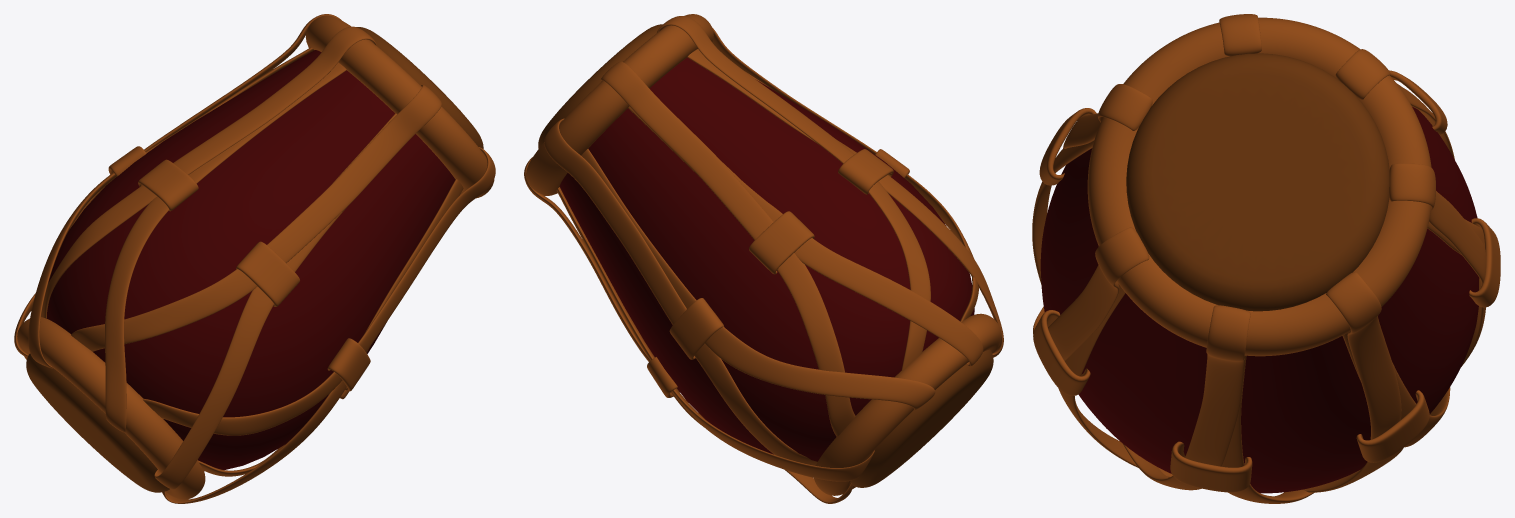
Rendered from Gendang.obj.
3 renders of one model, left to right at view 1: azimuth 30°, elevation 25°; view 2: azimuth 150°, elevation 25°; view 3: azimuth 270°, elevation 25°, orthographic. The views are drawn at different scales.
Parts seen in each view (by area): view 1: Udel, Tali_Rarawat, Wengku, Wengku.001, Ali-ali, Wangkis.001, Wangkis; view 2: Udel, Tali_Rarawat, Wengku, Wengku.001, Ali-ali, Wangkis.001, Wangkis; view 3: Wangkis, Udel, Tali_Rarawat, Wengku, Ali-ali.
Boxes of the visible parts, bbox=[...] form: Udel: bbox=[46, 50, 455, 471]; Tali_Rarawat: bbox=[14, 14, 495, 503]; Wengku: bbox=[305, 15, 494, 198]; Wengku.001: bbox=[17, 317, 205, 499]; Ali-ali: bbox=[108, 146, 370, 399]; Wangkis.001: bbox=[26, 353, 169, 492]; Wangkis: bbox=[356, 27, 483, 148]; Udel: bbox=[559, 57, 974, 461]; Tali_Rarawat: bbox=[524, 16, 1003, 503]; Wengku: bbox=[526, 14, 713, 195]; Wengku.001: bbox=[814, 313, 1001, 495]; Ali-ali: bbox=[647, 149, 909, 397]; Wangkis.001: bbox=[850, 349, 993, 487]; Wangkis: bbox=[538, 24, 662, 148]; Wangkis: bbox=[1126, 53, 1389, 311]; Udel: bbox=[1040, 106, 1479, 493]; Tali_Rarawat: bbox=[1032, 14, 1486, 503]; Wengku: bbox=[1087, 17, 1431, 356]; Ali-ali: bbox=[1033, 70, 1500, 492].
Size of the model in its own units: 1.84 by 1.68 by 1.22.
